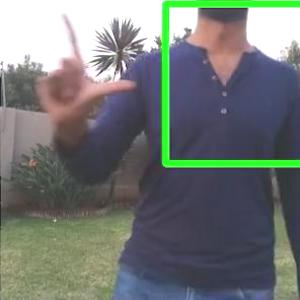land_hand: (28, 12, 138, 115)
